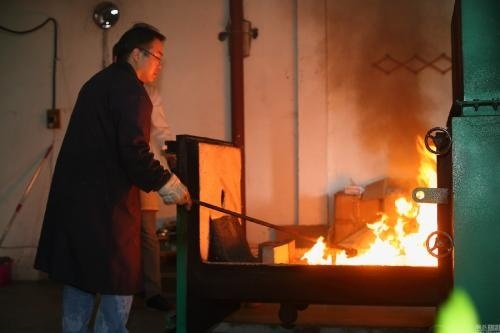fire: (341, 136, 441, 266), (300, 236, 337, 266)
